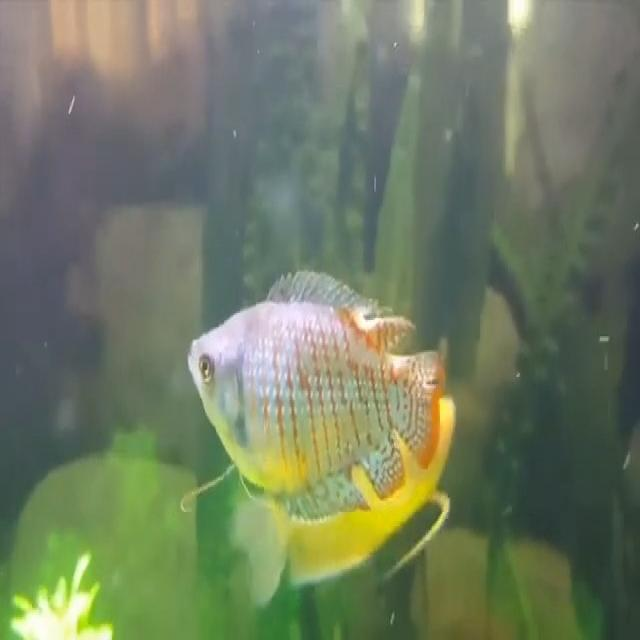fish: (186, 280, 450, 520)
